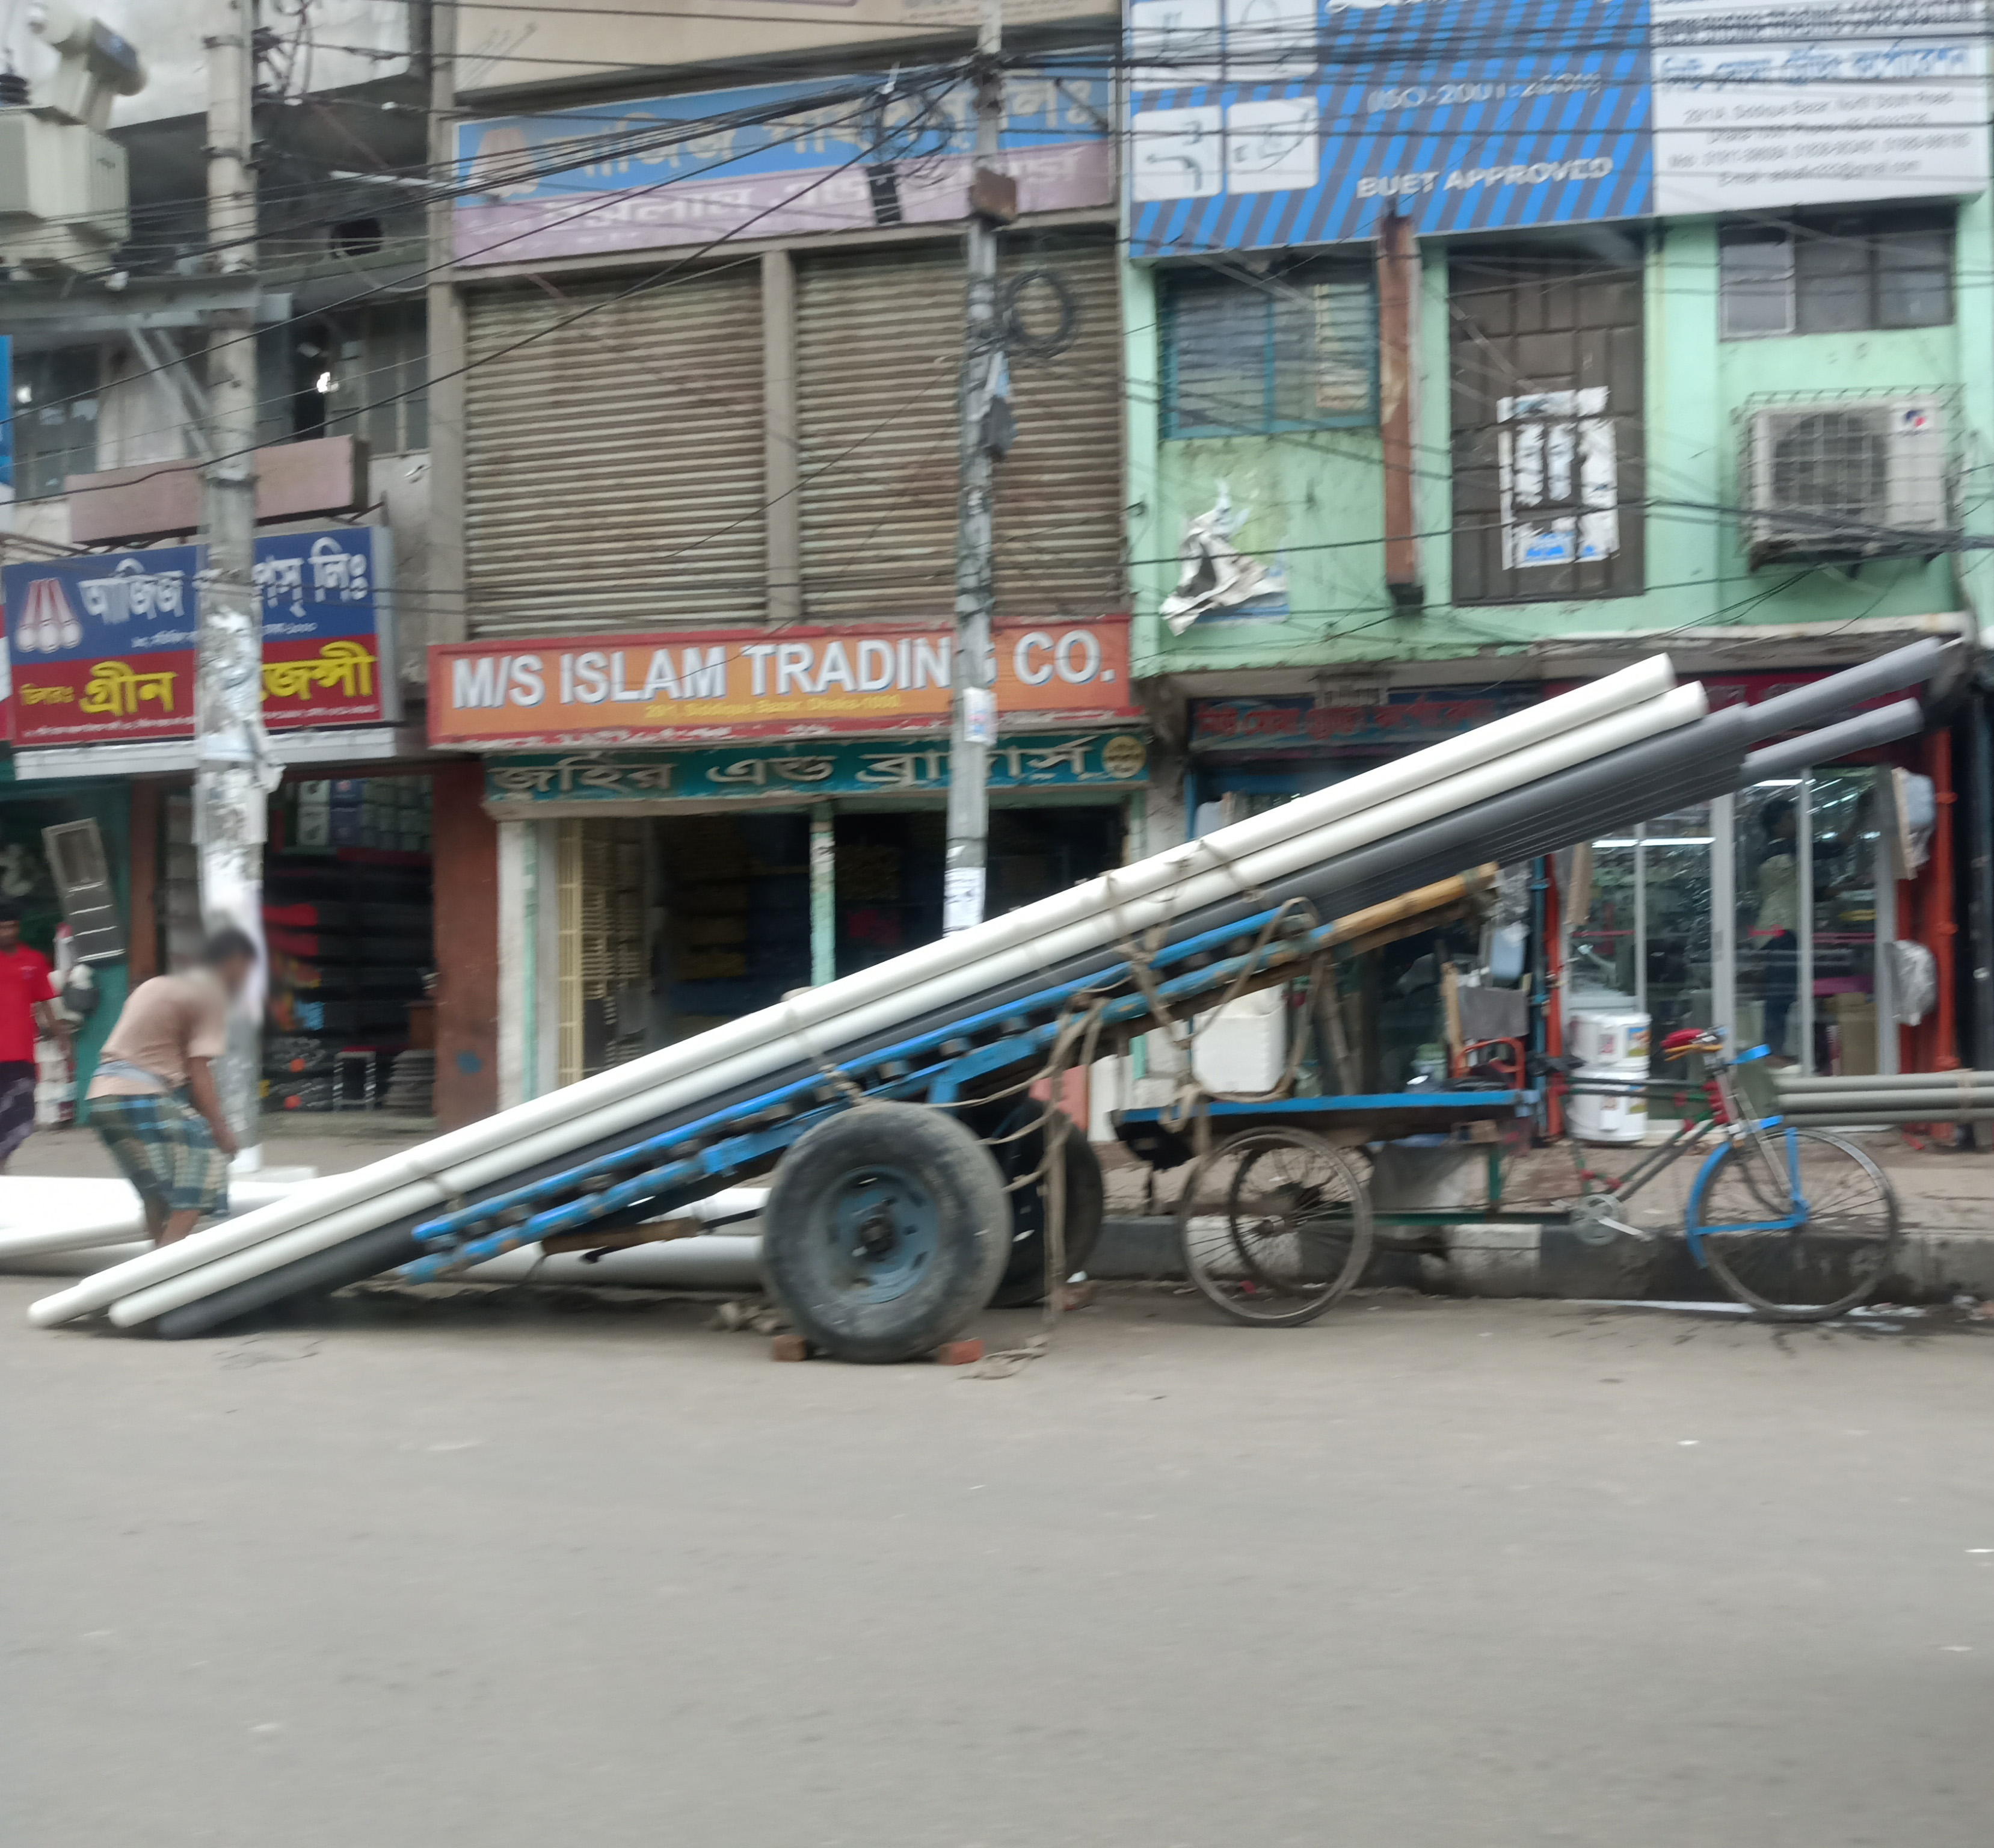van: (1099, 1037, 1911, 1332)
wheelbarrow: (377, 865, 1522, 1388)
